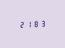eight: (32, 19, 38, 27)
one: (25, 20, 31, 28)
three: (39, 19, 45, 27)
two: (18, 20, 24, 28)
